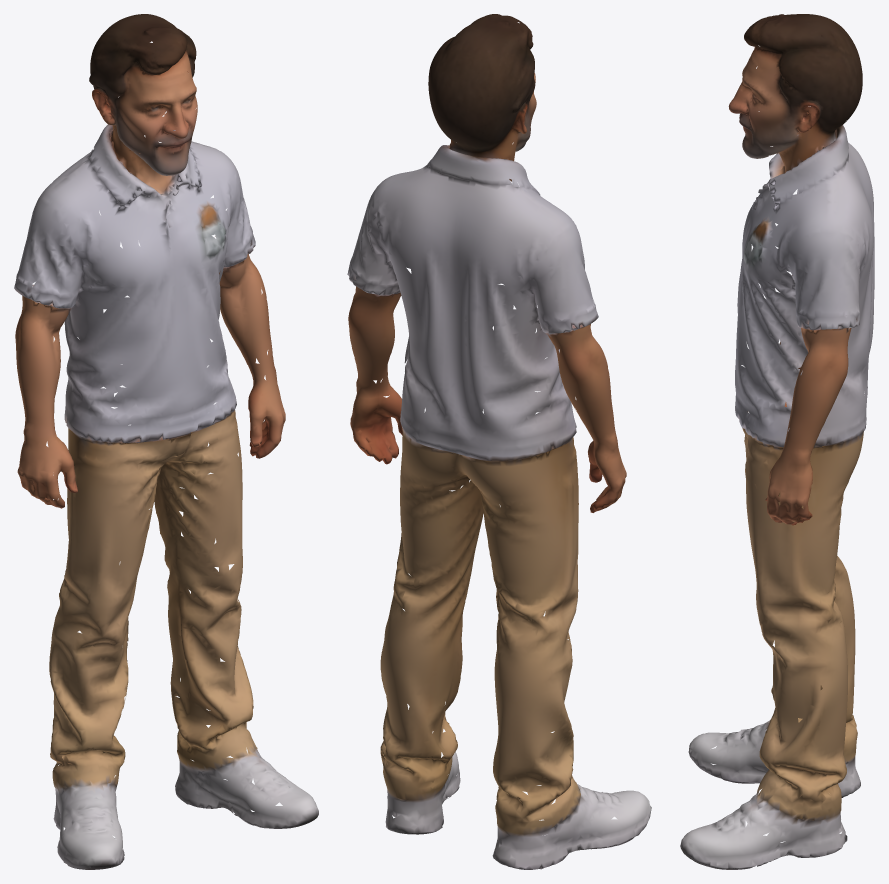
Rendered from rahul.glb.
The picture shows the model from 3 angles, left to right: view 1: azimuth 30°, elevation 25°; view 2: azimuth 150°, elevation 25°; view 3: azimuth 270°, elevation 25°; orthographic projection.
Size of the model in its own units: 0.6298 by 1.82 by 0.4024.
